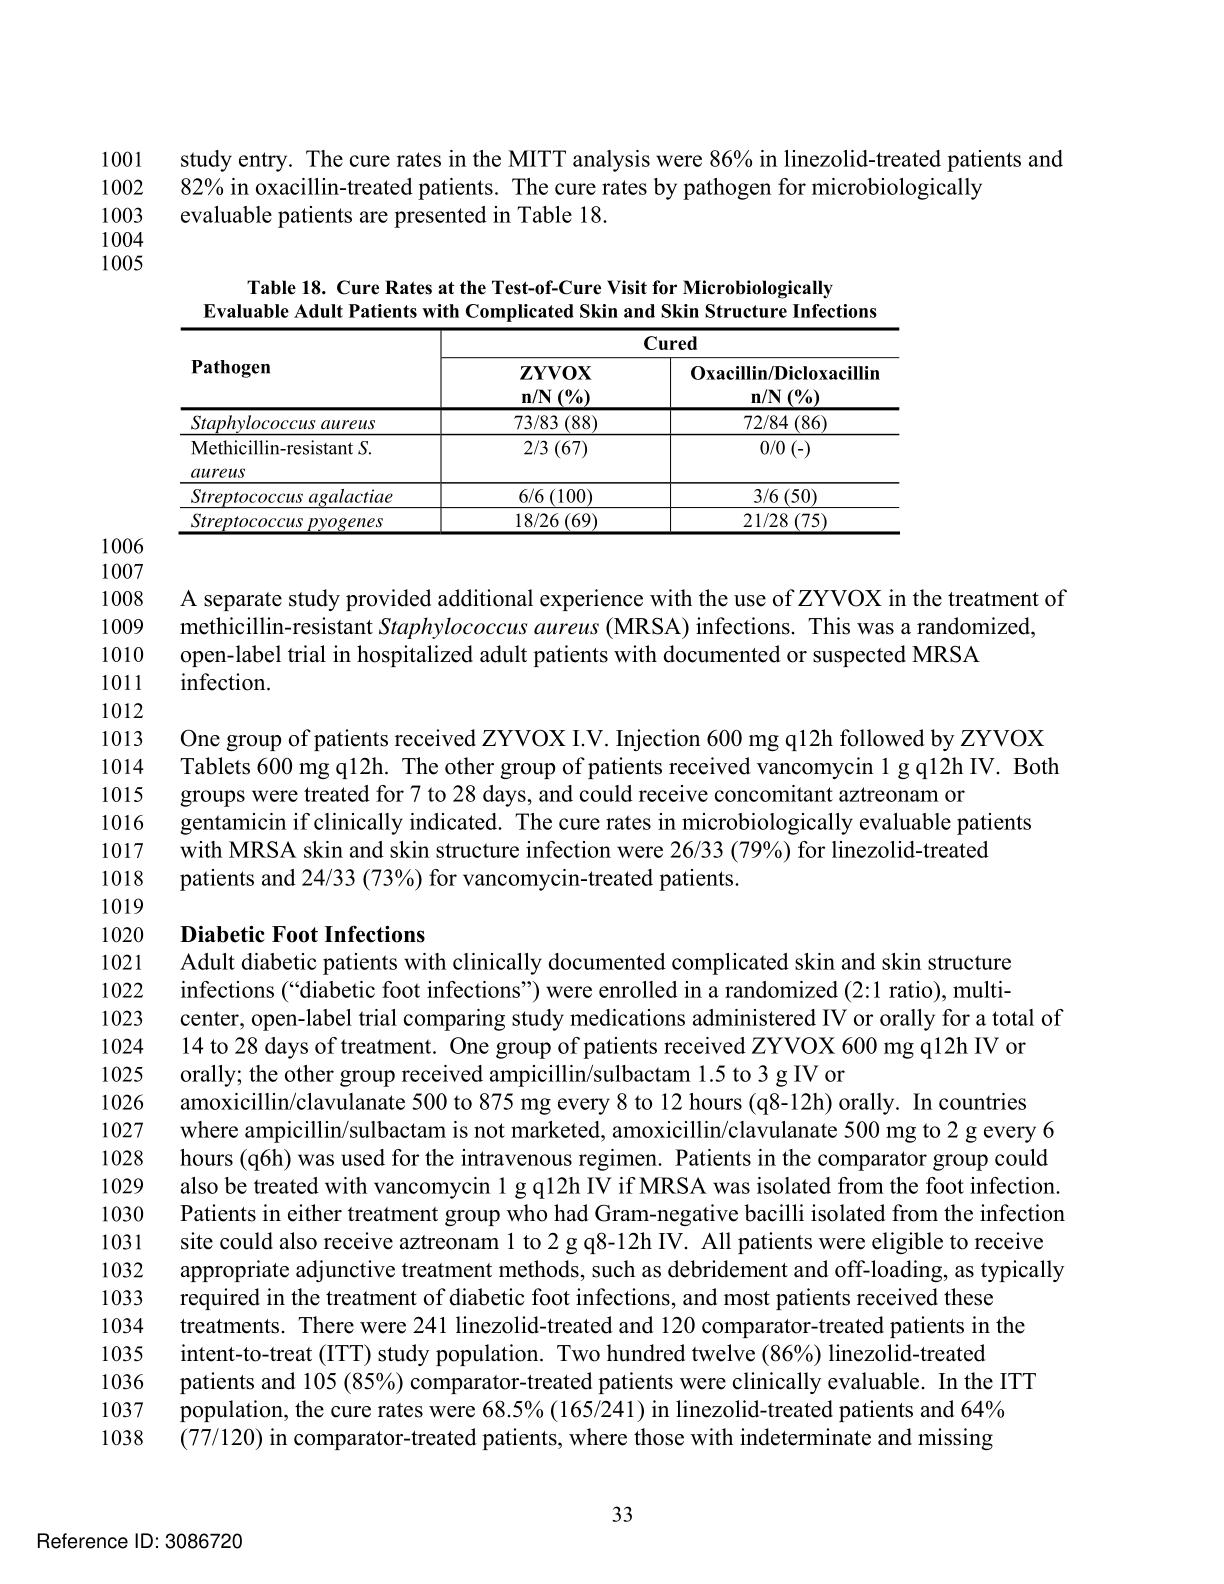partial_lined_merged_cells: (177, 327, 901, 536)
